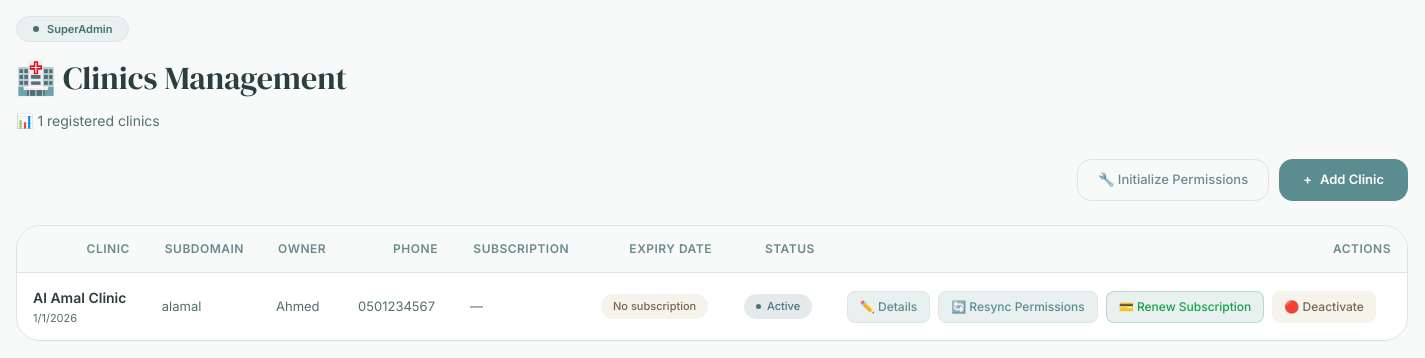
Test: SuperAdminClinics › toggles a clinic active/inactive
expect the text "Al Amal Clinic" is shown: met, box [33,287,130,308]
Step 1. Click the button "🔴 Deactivate" → point(1324, 306), box [1272,290,1376,322]
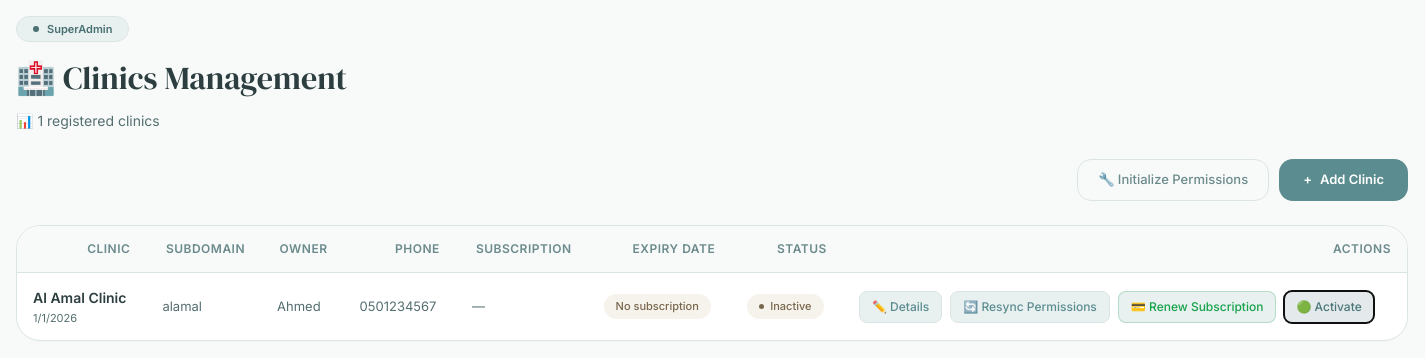
expect the button "🟢 Activate" is shown: met, box [1284,290,1374,322]
expect the text "Inactive" is shown: met, box [747,294,824,319]
